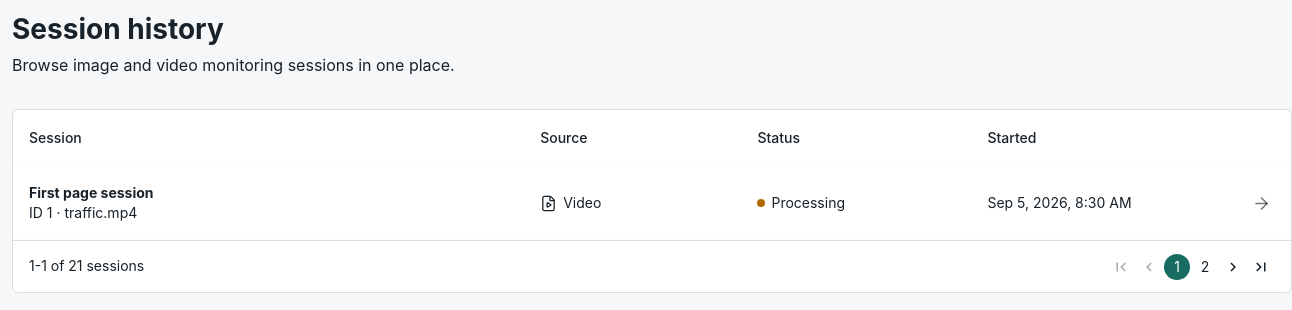
Test: SessionsPage › requests the selected history page
The width and height of the screenshot is (1292, 310).
Expected: the text "First page session" is shown, [29,184,154,201]
Click the button named "Go to page 2" at (1205, 267), box [1192,254,1218,280]
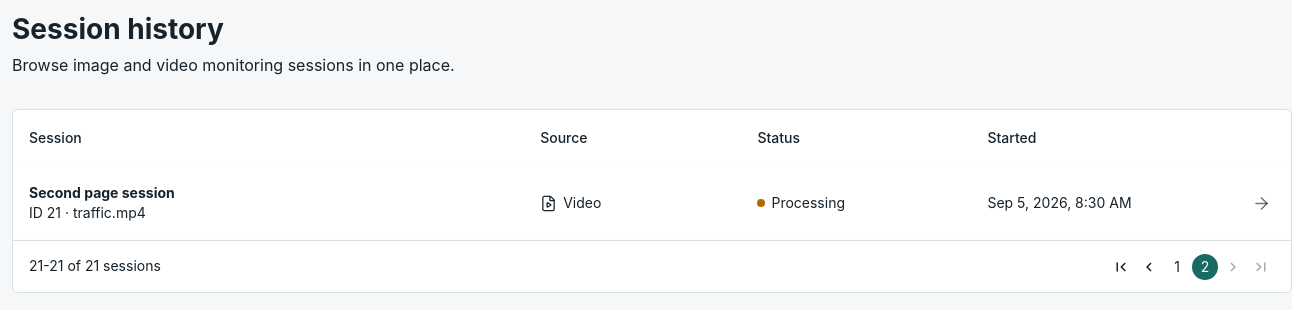
Expected: the text "Second page session" is shown, [29,184,175,201]
